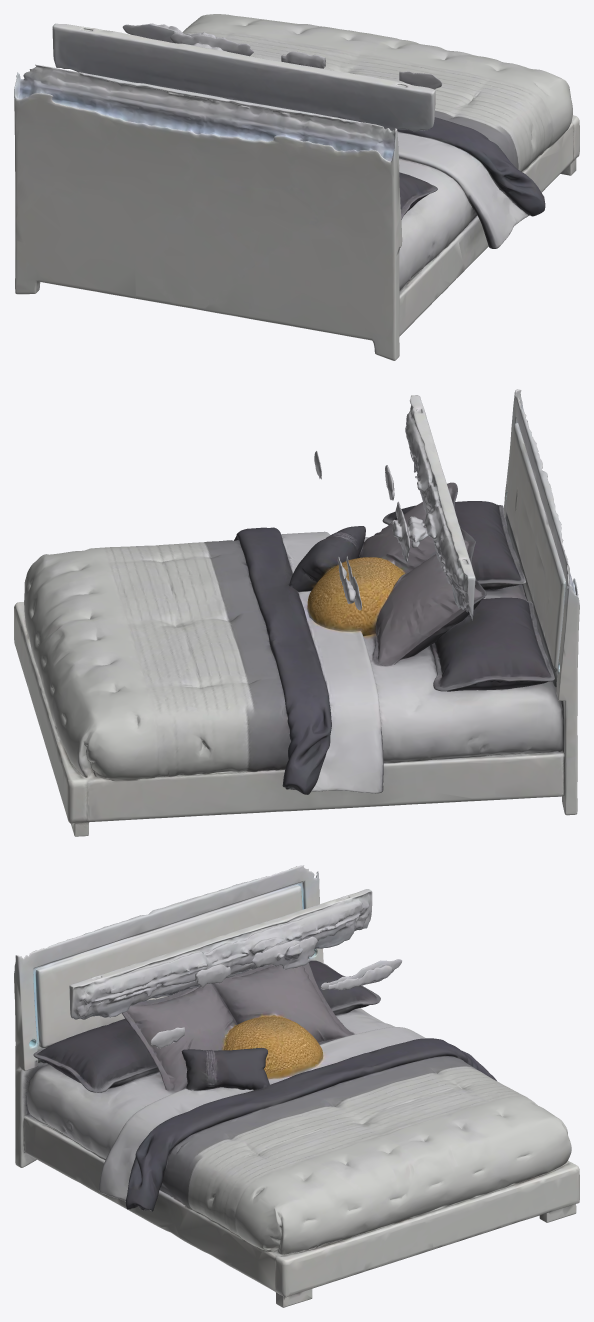
Rendered from caravanafurniture-com-products-california-king-white-faux-le-7baf3b.glb.
The picture shows the model from 3 angles, top to bottom: view 1: azimuth 30°, elevation 25°; view 2: azimuth 150°, elevation 25°; view 3: azimuth 270°, elevation 25°; orthographic projection. The views are drawn at different scales.
Parts seen in each view (by area): view 1: tripo_node_df6fcc19-46e8-4e17-b7c4-6d81501963eb; view 2: tripo_node_df6fcc19-46e8-4e17-b7c4-6d81501963eb; view 3: tripo_node_df6fcc19-46e8-4e17-b7c4-6d81501963eb.
Boxes of the visible parts, x1,y1,x2,y2 form: tripo_node_df6fcc19-46e8-4e17-b7c4-6d81501963eb: [14, 14, 579, 360]; tripo_node_df6fcc19-46e8-4e17-b7c4-6d81501963eb: [14, 389, 579, 836]; tripo_node_df6fcc19-46e8-4e17-b7c4-6d81501963eb: [14, 865, 579, 1307].
Size of the model in its own units: 1.24 by 0.4989 by 1.21.
Materials: 1 (1 with a texture image).
